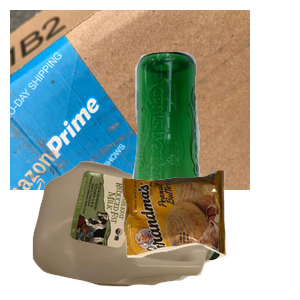cardboard: (10, 10, 250, 190)
glass: (129, 49, 300, 229)
plastic: (30, 159, 247, 300)
trash: (120, 168, 300, 300)
